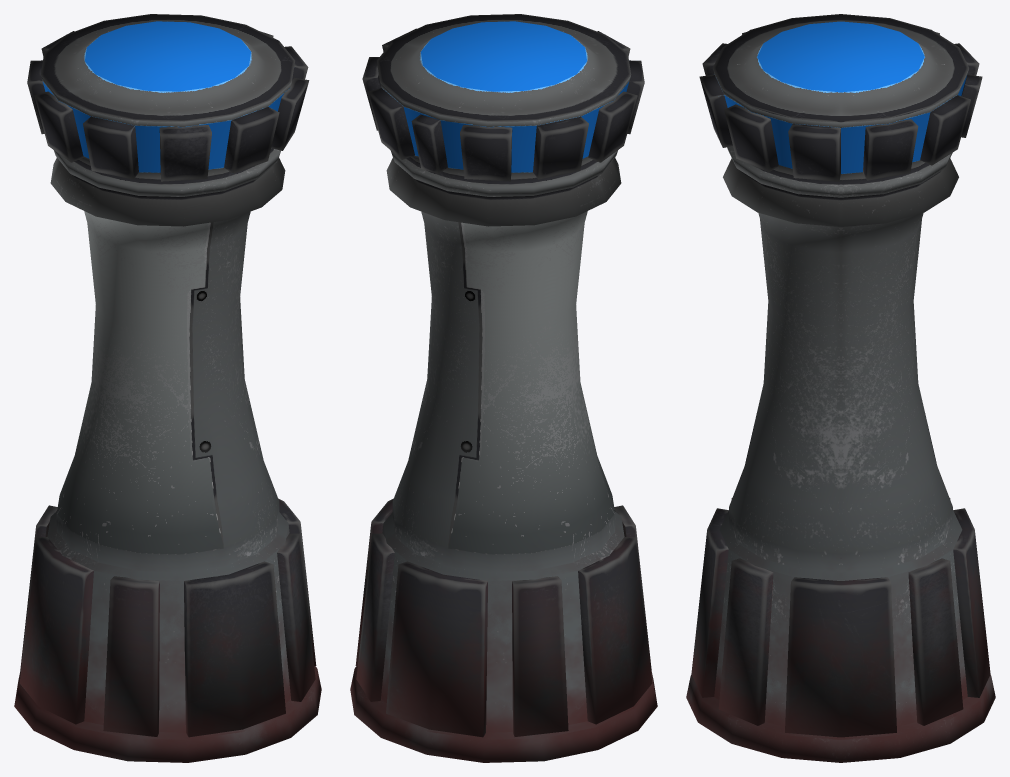
File: Turret_withBottom 1.fbx
The picture shows the model from 3 angles, left to right: view 1: azimuth 30°, elevation 25°; view 2: azimuth 150°, elevation 25°; view 3: azimuth 270°, elevation 25°; orthographic projection.
Visible parts, largest first — view 1: Body_LP; view 2: Body_LP; view 3: Body_LP.
Part boxes in pixels (box(x1,y1,x2,y2)): Body_LP: box(14, 14, 321, 762); Body_LP: box(350, 14, 657, 762); Body_LP: box(686, 14, 995, 762).
Bounding box in the file's own units: 0.6992 × 1.6 × 0.6992.
Materials: 2 (1 with a texture image).
